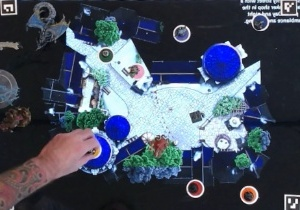blue: (251, 12, 270, 32)
green: (95, 45, 114, 63)
orange: (237, 183, 263, 206)
pink: (129, 62, 147, 83)
red: (185, 177, 206, 198)
violet: (173, 24, 194, 44)
yellow: (82, 139, 104, 160)
